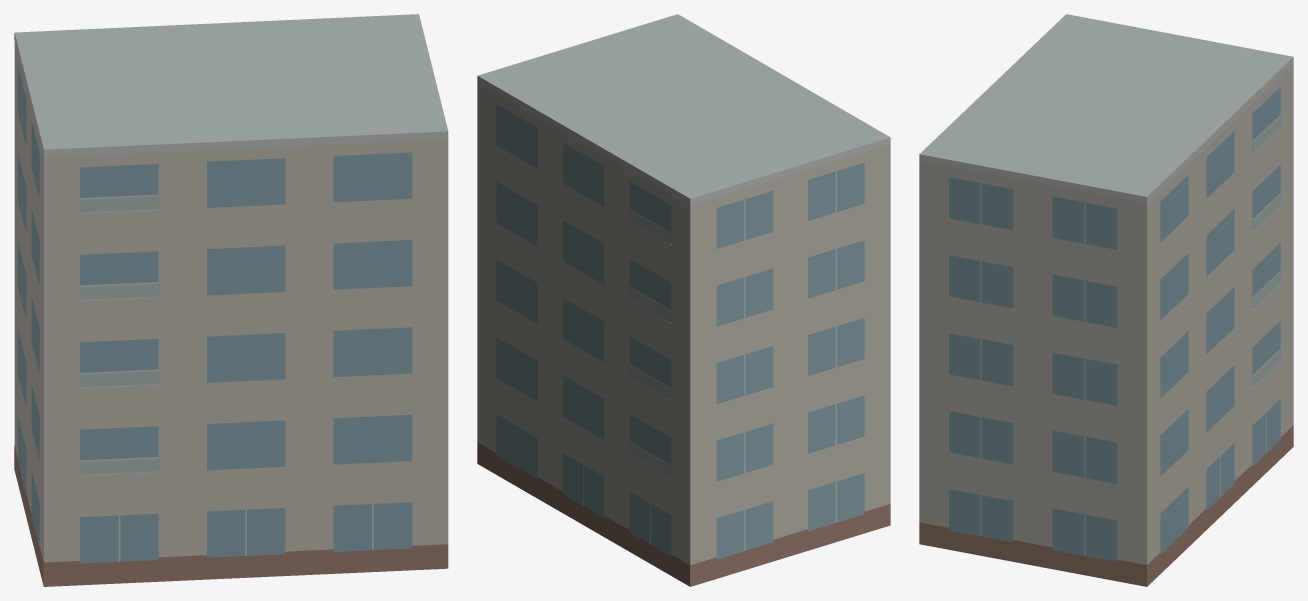
File: survey-upis-32983187.glb
The picture shows the model from 3 angles, left to right: view 1: azimuth 30°, elevation 25°; view 2: azimuth 150°, elevation 25°; view 3: azimuth 270°, elevation 25°; orthographic projection. The views are drawn at different scales.
Parts seen in each view (by area): view 1: survey-upis-32983187.tmp; view 2: survey-upis-32983187.tmp; view 3: survey-upis-32983187.tmp.
Part boxes in pixels (box(x1,y1,x2,y2)): survey-upis-32983187.tmp: box(14, 14, 448, 586); survey-upis-32983187.tmp: box(477, 14, 890, 586); survey-upis-32983187.tmp: box(919, 14, 1293, 586).
Bounding box in the file's own units: 14 × 13.9 × 12.1.
